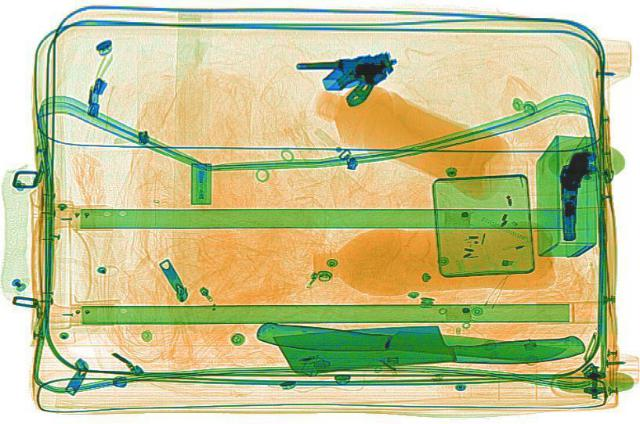Gun: (294, 49, 394, 106), (556, 150, 596, 238)
Knife: (270, 315, 586, 372), (254, 319, 566, 361)
